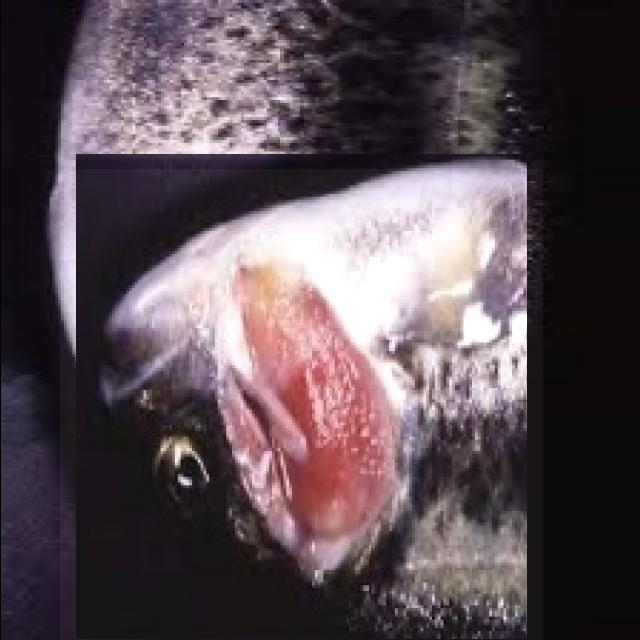Gill Disease: (59, 169, 542, 640)
